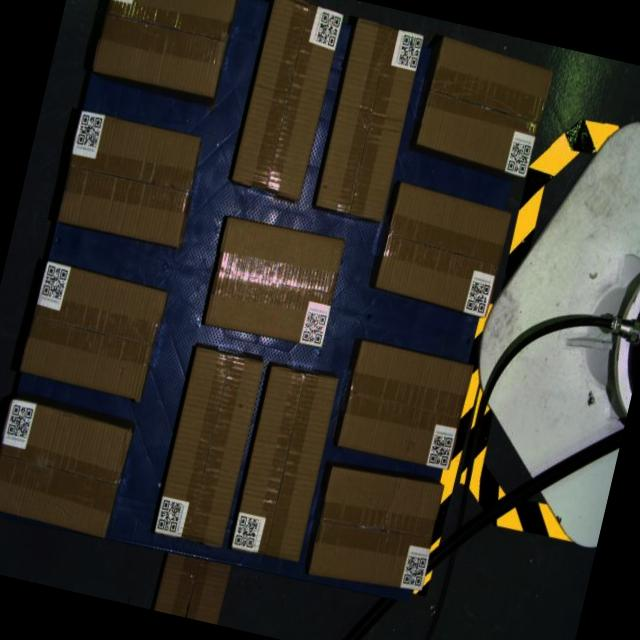box: (229, 0, 345, 202), (314, 17, 426, 223), (153, 347, 264, 549), (230, 363, 341, 565), (18, 259, 169, 404), (55, 109, 206, 249), (413, 36, 555, 178), (202, 213, 346, 351), (307, 460, 445, 600), (374, 180, 514, 317), (0, 397, 134, 538), (336, 338, 473, 471), (91, 0, 240, 98)
